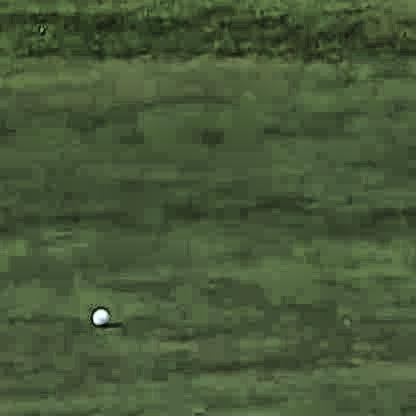golfball: (89, 303, 108, 325)
